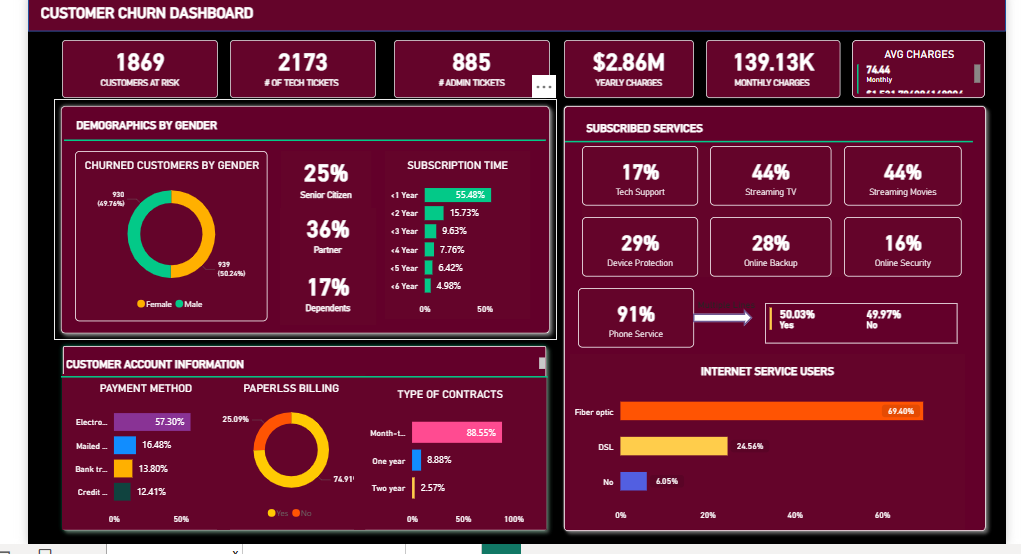

The page's visual inventory and layout, read from the dashboard file:
{"tool":"powerbi","page":{"name":"Churn Dashboard","canvas":[1280,720],"ordinal":0},"visuals":[{"type":"shape","box":[0,0,1280,49],"z":0},{"type":"shape","box":[34.6,136.8,658,316],"z":0,"group":"g1"},{"type":"card","fields":{"Values":["Churn.% Tech Support"]},"box":[725.8,198.7,152.4,78.4],"z":0,"group":"g4"},{"type":"shape","box":[692.6,136.8,570.2,574.6],"z":1000},{"type":"card","fields":{"Values":["Churn.% Streaming TV"]},"box":[893.2,198.7,159.5,78.4],"z":1000,"group":"g4"},{"type":"donutChart","title":"CHURNED CUSTOMERS BY GENDER","fields":{"Category":["01 Churn-Dataset.gender"],"Y":["CountNonNull(01 Churn-Dataset.gender)"]},"box":[61.7,205.2,252.2,223.4],"z":1000,"group":"g1"},{"type":"shape","box":[702.7,126.7,534.2,132.5],"z":1500,"group":"g3"},{"type":"shape","box":[43.2,434.9,636.8,133],"z":1500,"group":"g2"},{"type":"textbox","box":[12,8,438,33],"z":2000},{"type":"textbox","box":[43.3,146.9,630.9,47.3],"z":2000,"group":"g1"},{"type":"textbox","box":[710,151.5,521.3,38.9],"z":2000,"group":"g3"},{"type":"card","fields":{"Values":["Churn.% Streaming Movies"]},"box":[1068.6,198.7,154.2,78.4],"z":2000,"group":"g4"},{"type":"textbox","box":[30.2,460.8,652.3,34.6],"z":2000,"group":"g2"},{"type":"card","fields":{"Values":["Churn.% of Senior Citizen"]},"box":[331.1,205.2,118,77.5],"z":3000,"group":"g1"},{"type":"card","fields":{"Values":["Churn.% Device Protection"]},"box":[725.8,291.3,152.4,78.4],"z":3000,"group":"g4"},{"type":"shape","box":[36,452.2,650.9,259.2],"z":3000},{"type":"card","fields":{"Values":["CountNonNull(01 Churn-Dataset.customerID)"]},"box":[44,60,204,76],"z":4000},{"type":"card","fields":{"Values":["Churn.% of partner"]},"box":[330.1,279.7,125.5,74.5],"z":4000,"group":"g1"},{"type":"card","fields":{"Values":["Churn.% Online Backup"]},"box":[893.2,291.3,159.5,78.4],"z":4000,"group":"g4"},{"type":"shape","box":[47.3,151.5,630.7,79.2],"z":5000,"group":"g1"},{"type":"card","fields":{"Values":["Churn.% Online Sec"]},"box":[1068.6,291.3,154.2,78.4],"z":5000,"group":"g4"},{"type":"card","fields":{"Values":["Churn.% Phone Service"]},"box":[720,385,152,78],"z":5000},{"type":"card","fields":{"Values":["Sum(01 Churn-Dataset.numTechTickets)"]},"box":[264,60,191,76],"z":6000},{"type":"card","fields":{"Values":["Churn.% of Dependents"]},"box":[330.1,352.2,125.5,79.5],"z":6000,"group":"g1"},{"type":"clusteredBarChart","title":"SUBSCRIPTION TIME","fields":{"Y":["CountNonNull(Churn.Churn)"],"Category":["Churn.Tenure(in years)"]},"box":[467.5,205.2,190.5,220.4],"z":7000,"group":"g1"},{"type":"clusteredBarChart","title":"PAYMENT METHOD","fields":{"Y":["CountNonNull(Churn.PaymentMethod)"],"Category":["Churn.PaymentMethod"]},"box":[44,497,220,204],"z":7000},{"type":"card","fields":{"Values":["Sum(01 Churn-Dataset.TotalCharges)"]},"box":[702,60,170,76],"z":8000},{"type":"card","fields":{"Values":["Sum(01 Churn-Dataset.numAdminTickets)"]},"box":[479,60,204,76],"z":9000},{"type":"group","id":"g1","title":"Group 1","box":[34.6,136.8,658,316],"z":10000},{"type":"card","fields":{"Values":["Sum(01 Churn-Dataset.MonthlyCharges)"]},"box":[887,60,176,76],"z":11000},{"type":"donutChart","title":"PAPERLSS BILLING","fields":{"Category":["Churn.PaperlessBilling"],"Y":["CountNonNull(Churn.PaperlessBilling)"]},"box":[247.7,496.8,194.4,204.5],"z":12000},{"type":"multiRowCard","title":"AVG CHARGES","fields":{"Values":["Avg(Churn.MonthlyCharges)","Avg(Churn.TotalCharges)"]},"box":[1078.6,60.5,174.2,76.3],"z":13000},{"type":"clusteredBarChart","title":"TYPE OF CONTRACTS","fields":{"Category":["Churn.Contract"],"Y":["CountNonNull(Churn.Contract)"]},"box":[426.2,501.1,252,200.2],"z":14000},{"type":"group","id":"g2","title":"Group 2","box":[30.2,434.9,652.3,132.5],"z":15000},{"type":"group","id":"g3","title":"Group 2","box":[702.7,126.7,534.2,132.5],"z":16000},{"type":"group","id":"g4","title":"Group 3","box":[725.8,198.7,496.8,171.4],"z":17000},{"type":"shape","box":[871,412,78,23],"z":18000},{"type":"textbox","box":[872,391,300,30],"z":19000},{"type":"multiRowCard","fields":{"Values":["Churn.% Yes-Multiple Lines","Churn.% No-Multiple Lines"]},"box":[965,404,252,53],"z":20000},{"type":"barChart","title":"INTERNET SERVICE USERS","fields":{"Y":["CountNonNull(Churn.InternetService)"],"Category":["Churn.InternetService"]},"box":[710,471,517,230],"z":21000}]}

Visuals, with their boxes on the page's 1280x720 design canvas (x1, y1, x2, y2). These are canvas units, not pixel positions in the 1021x554 screenshot, which may show the page scaled, cropped or inside an application window:
shape: l=0, t=0, r=1280, b=49
shape: l=35, t=137, r=693, b=453
card - Churn.% Tech Support: l=726, t=199, r=878, b=277
shape: l=693, t=137, r=1263, b=711
card - Churn.% Streaming TV: l=893, t=199, r=1053, b=277
"CHURNED CUSTOMERS BY GENDER" donutChart: l=62, t=205, r=314, b=429
shape: l=703, t=127, r=1237, b=259
shape: l=43, t=435, r=680, b=568
textbox: l=12, t=8, r=450, b=41
textbox: l=43, t=147, r=674, b=194
textbox: l=710, t=152, r=1231, b=190
card - Churn.% Streaming Movies: l=1069, t=199, r=1223, b=277
textbox: l=30, t=461, r=682, b=495
card - Churn.% of Senior Citizen: l=331, t=205, r=449, b=283
card - Churn.% Device Protection: l=726, t=291, r=878, b=370
shape: l=36, t=452, r=687, b=711
card - CountNonNull(01 Churn-Dataset.customerID): l=44, t=60, r=248, b=136
card - Churn.% of partner: l=330, t=280, r=456, b=354
card - Churn.% Online Backup: l=893, t=291, r=1053, b=370
shape: l=47, t=152, r=678, b=231
card - Churn.% Online Sec: l=1069, t=291, r=1223, b=370
card - Churn.% Phone Service: l=720, t=385, r=872, b=463
card - Sum(01 Churn-Dataset.numTechTickets): l=264, t=60, r=455, b=136
card - Churn.% of Dependents: l=330, t=352, r=456, b=432
"SUBSCRIPTION TIME" clusteredBarChart: l=468, t=205, r=658, b=426
"PAYMENT METHOD" clusteredBarChart: l=44, t=497, r=264, b=701
card - Sum(01 Churn-Dataset.TotalCharges): l=702, t=60, r=872, b=136
card - Sum(01 Churn-Dataset.numAdminTickets): l=479, t=60, r=683, b=136
"Group 1" group: l=35, t=137, r=693, b=453
card - Sum(01 Churn-Dataset.MonthlyCharges): l=887, t=60, r=1063, b=136
"PAPERLSS BILLING" donutChart: l=248, t=497, r=442, b=701
"AVG CHARGES" multiRowCard: l=1079, t=60, r=1253, b=137
"TYPE OF CONTRACTS" clusteredBarChart: l=426, t=501, r=678, b=701
"Group 2" group: l=30, t=435, r=682, b=567
"Group 2" group: l=703, t=127, r=1237, b=259
"Group 3" group: l=726, t=199, r=1223, b=370
shape: l=871, t=412, r=949, b=435
textbox: l=872, t=391, r=1172, b=421
multiRowCard - Churn.% Yes-Multiple Lines x Churn.% No-Multiple Lines: l=965, t=404, r=1217, b=457
"INTERNET SERVICE USERS" barChart: l=710, t=471, r=1227, b=701
